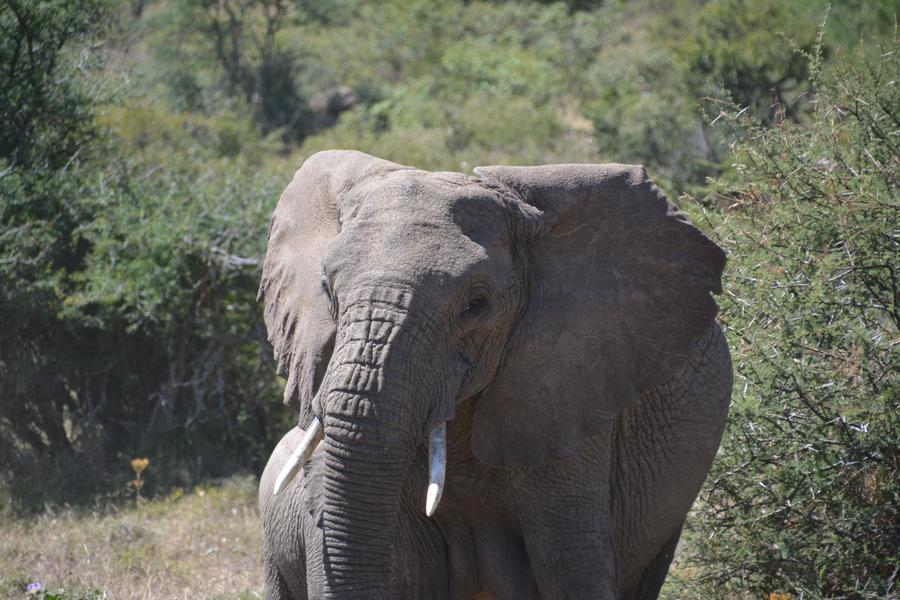elephant: (274, 153, 688, 588)
